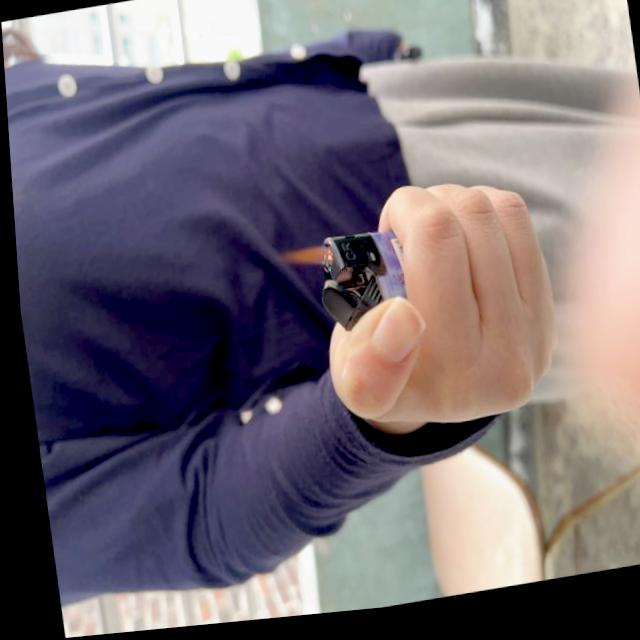helmet: (268, 247, 328, 280)
